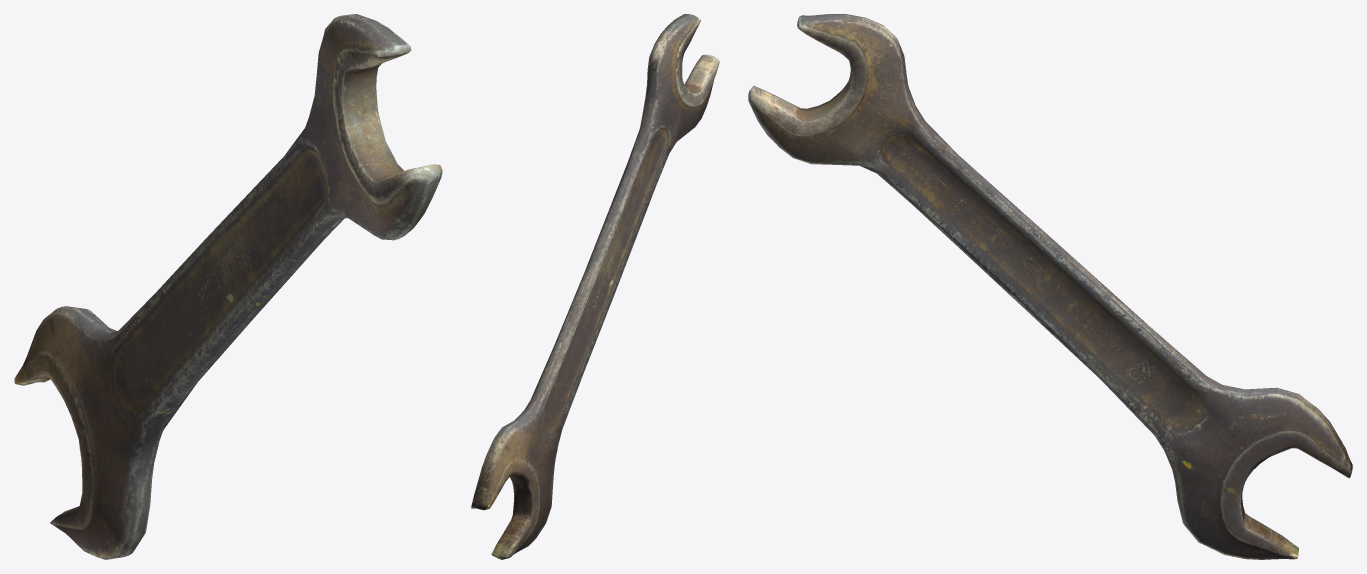
The model's file is wrench.fbx.
The picture shows the model from 3 angles, left to right: view 1: azimuth 30°, elevation 25°; view 2: azimuth 150°, elevation 25°; view 3: azimuth 270°, elevation 25°; orthographic projection. The views are drawn at different scales.
Visible parts, largest first — view 1: PB114_wrench_Low; view 2: PB114_wrench_Low; view 3: PB114_wrench_Low.
Part boxes in pixels (<box>): PB114_wrench_Low: <box>14,14,442,559</box>; PB114_wrench_Low: <box>471,14,719,559</box>; PB114_wrench_Low: <box>748,14,1352,559</box>.
Size of the model in its own units: 94.12 by 1544 by 1559.
1 material, 1 textured.
